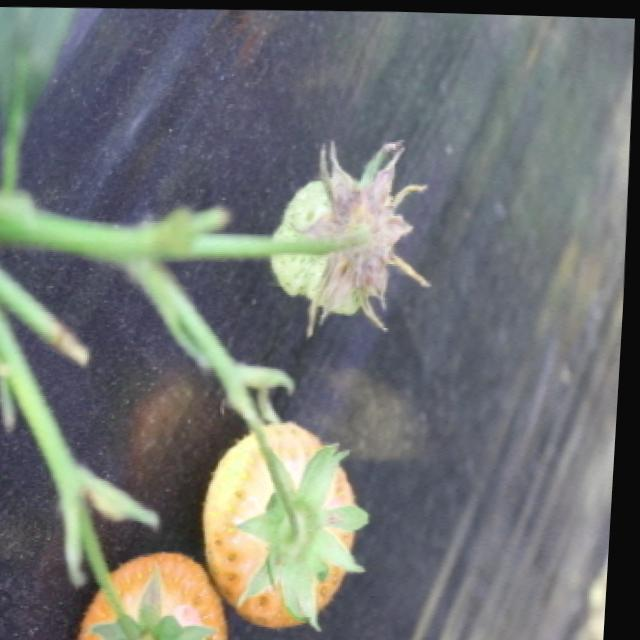Gray Mold: (290, 134, 439, 336)
